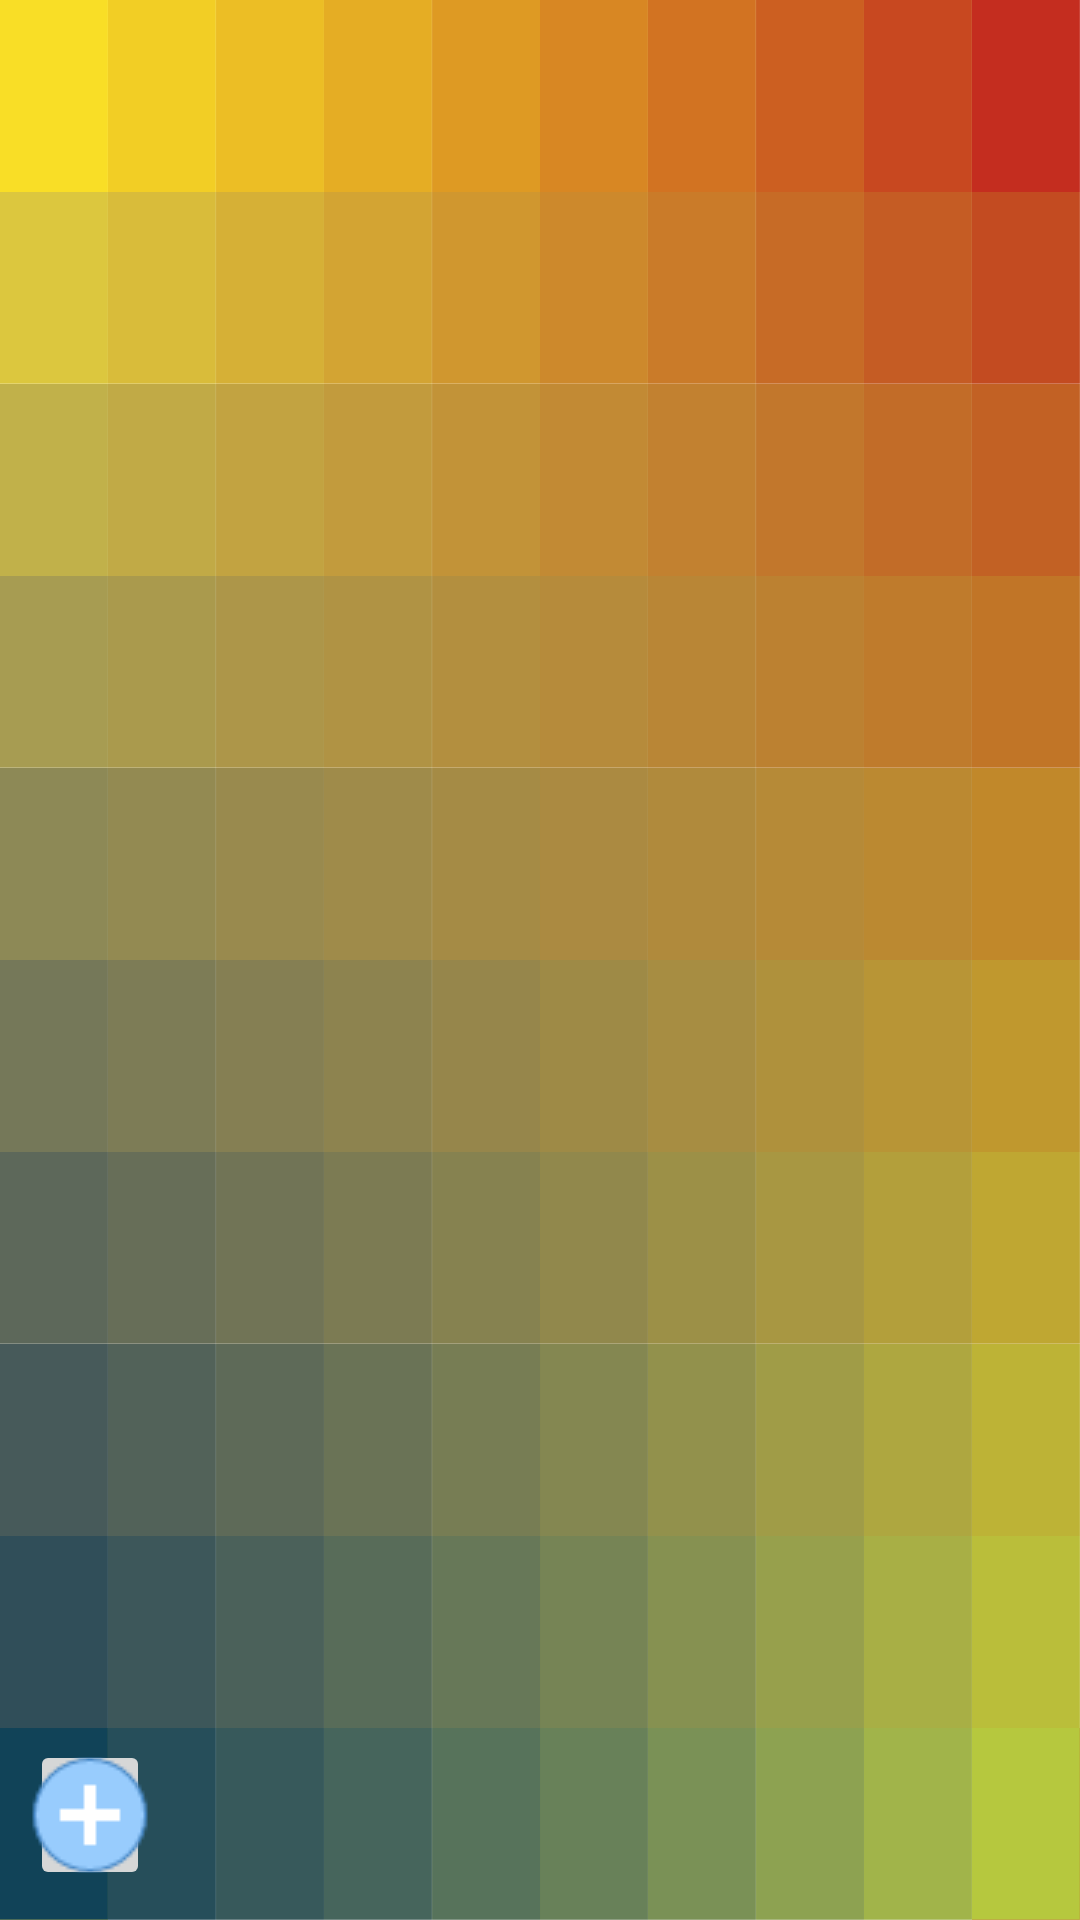

Screen size 1080px×1920px. Icon name, then its center in pixels as point (x, y):
plus: point (90, 1815)
